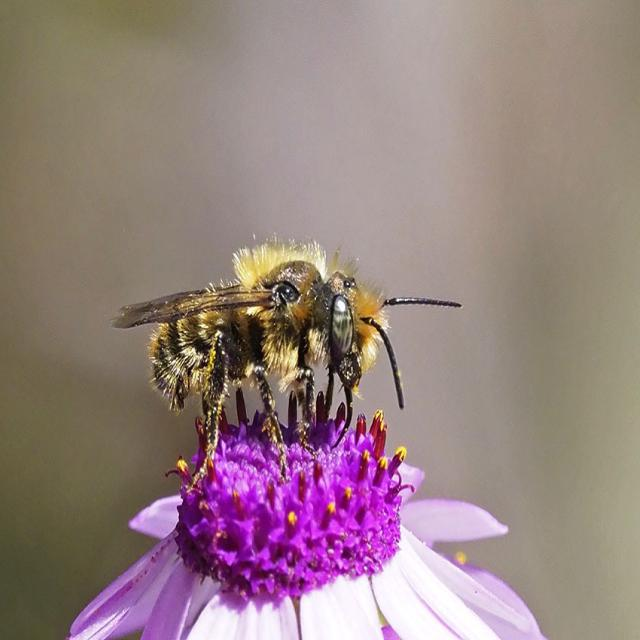bee: (110, 230, 464, 490)
